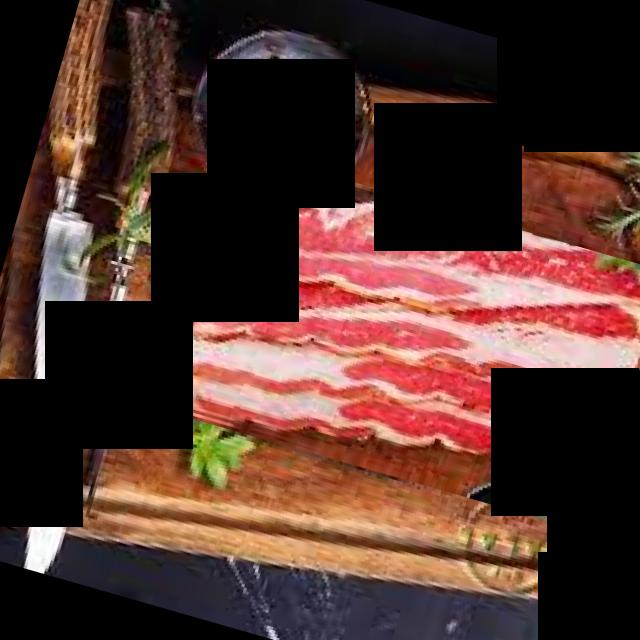bacon: (141, 142, 640, 532)
